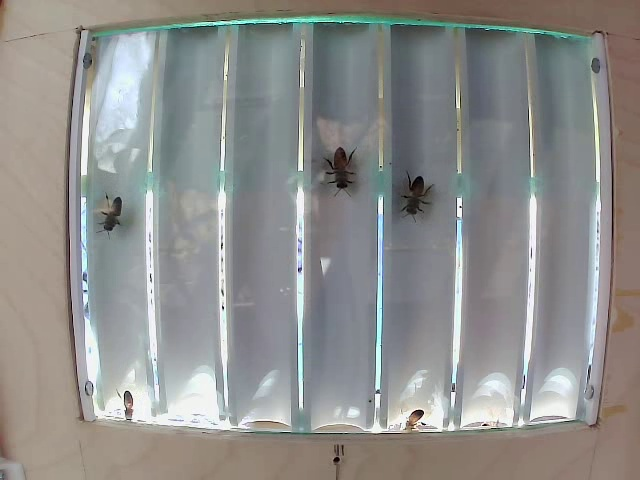bee: (97, 183, 132, 245), (394, 170, 433, 222), (329, 138, 354, 201)
